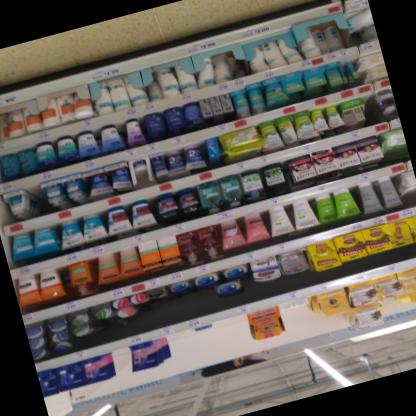empty_space: (212, 314, 256, 361), (164, 331, 200, 375), (110, 346, 139, 389), (24, 182, 49, 217)
